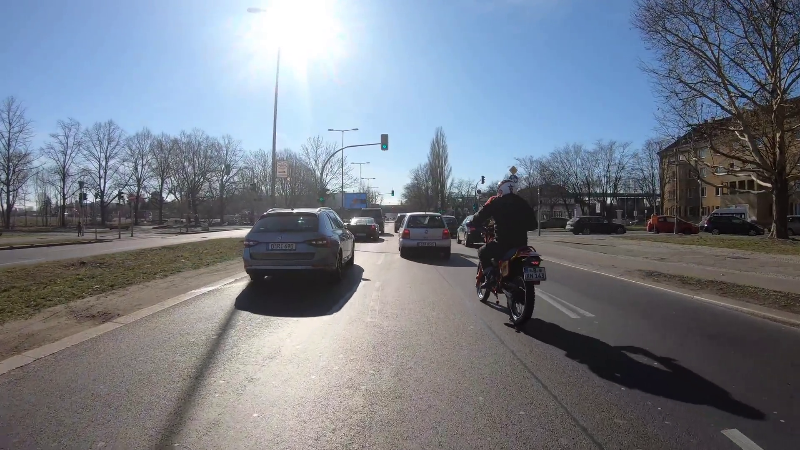Plate: (263, 241, 299, 252), (415, 240, 437, 247)
